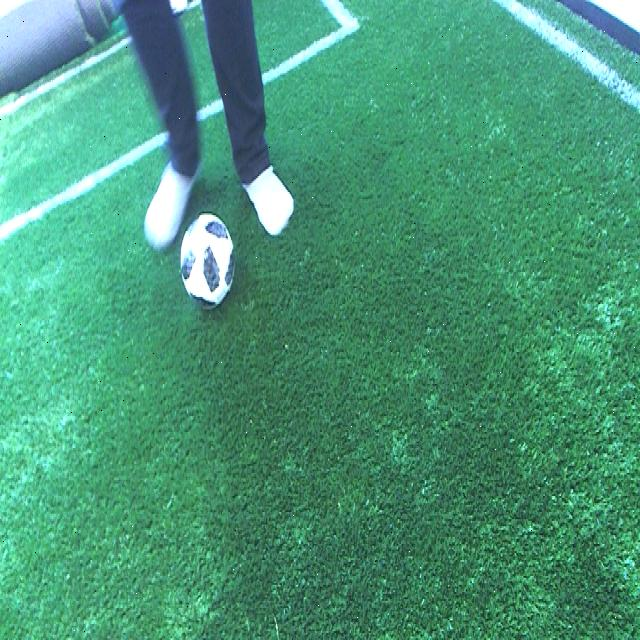ball: (183, 208, 236, 308)
